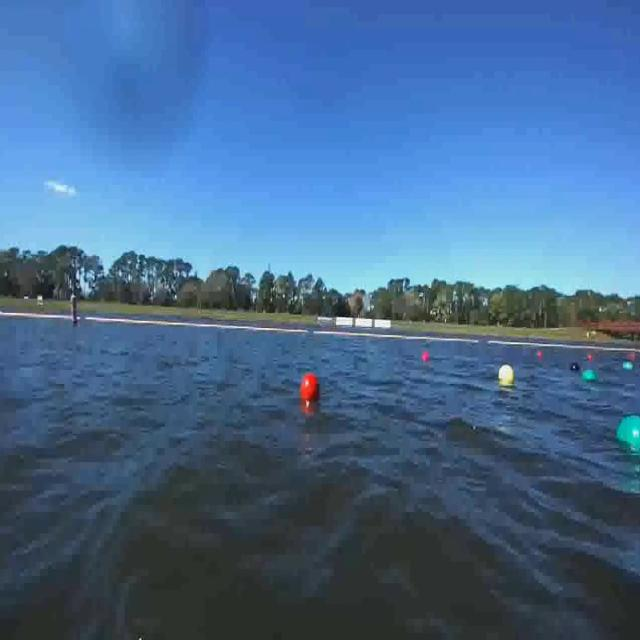black-buoy: (569, 361, 581, 372)
green-buoy: (615, 415, 640, 460), (581, 370, 596, 383), (622, 362, 634, 371)
red-buoy: (300, 372, 317, 401), (422, 351, 430, 363)
yellow-buoy: (498, 363, 515, 385)
